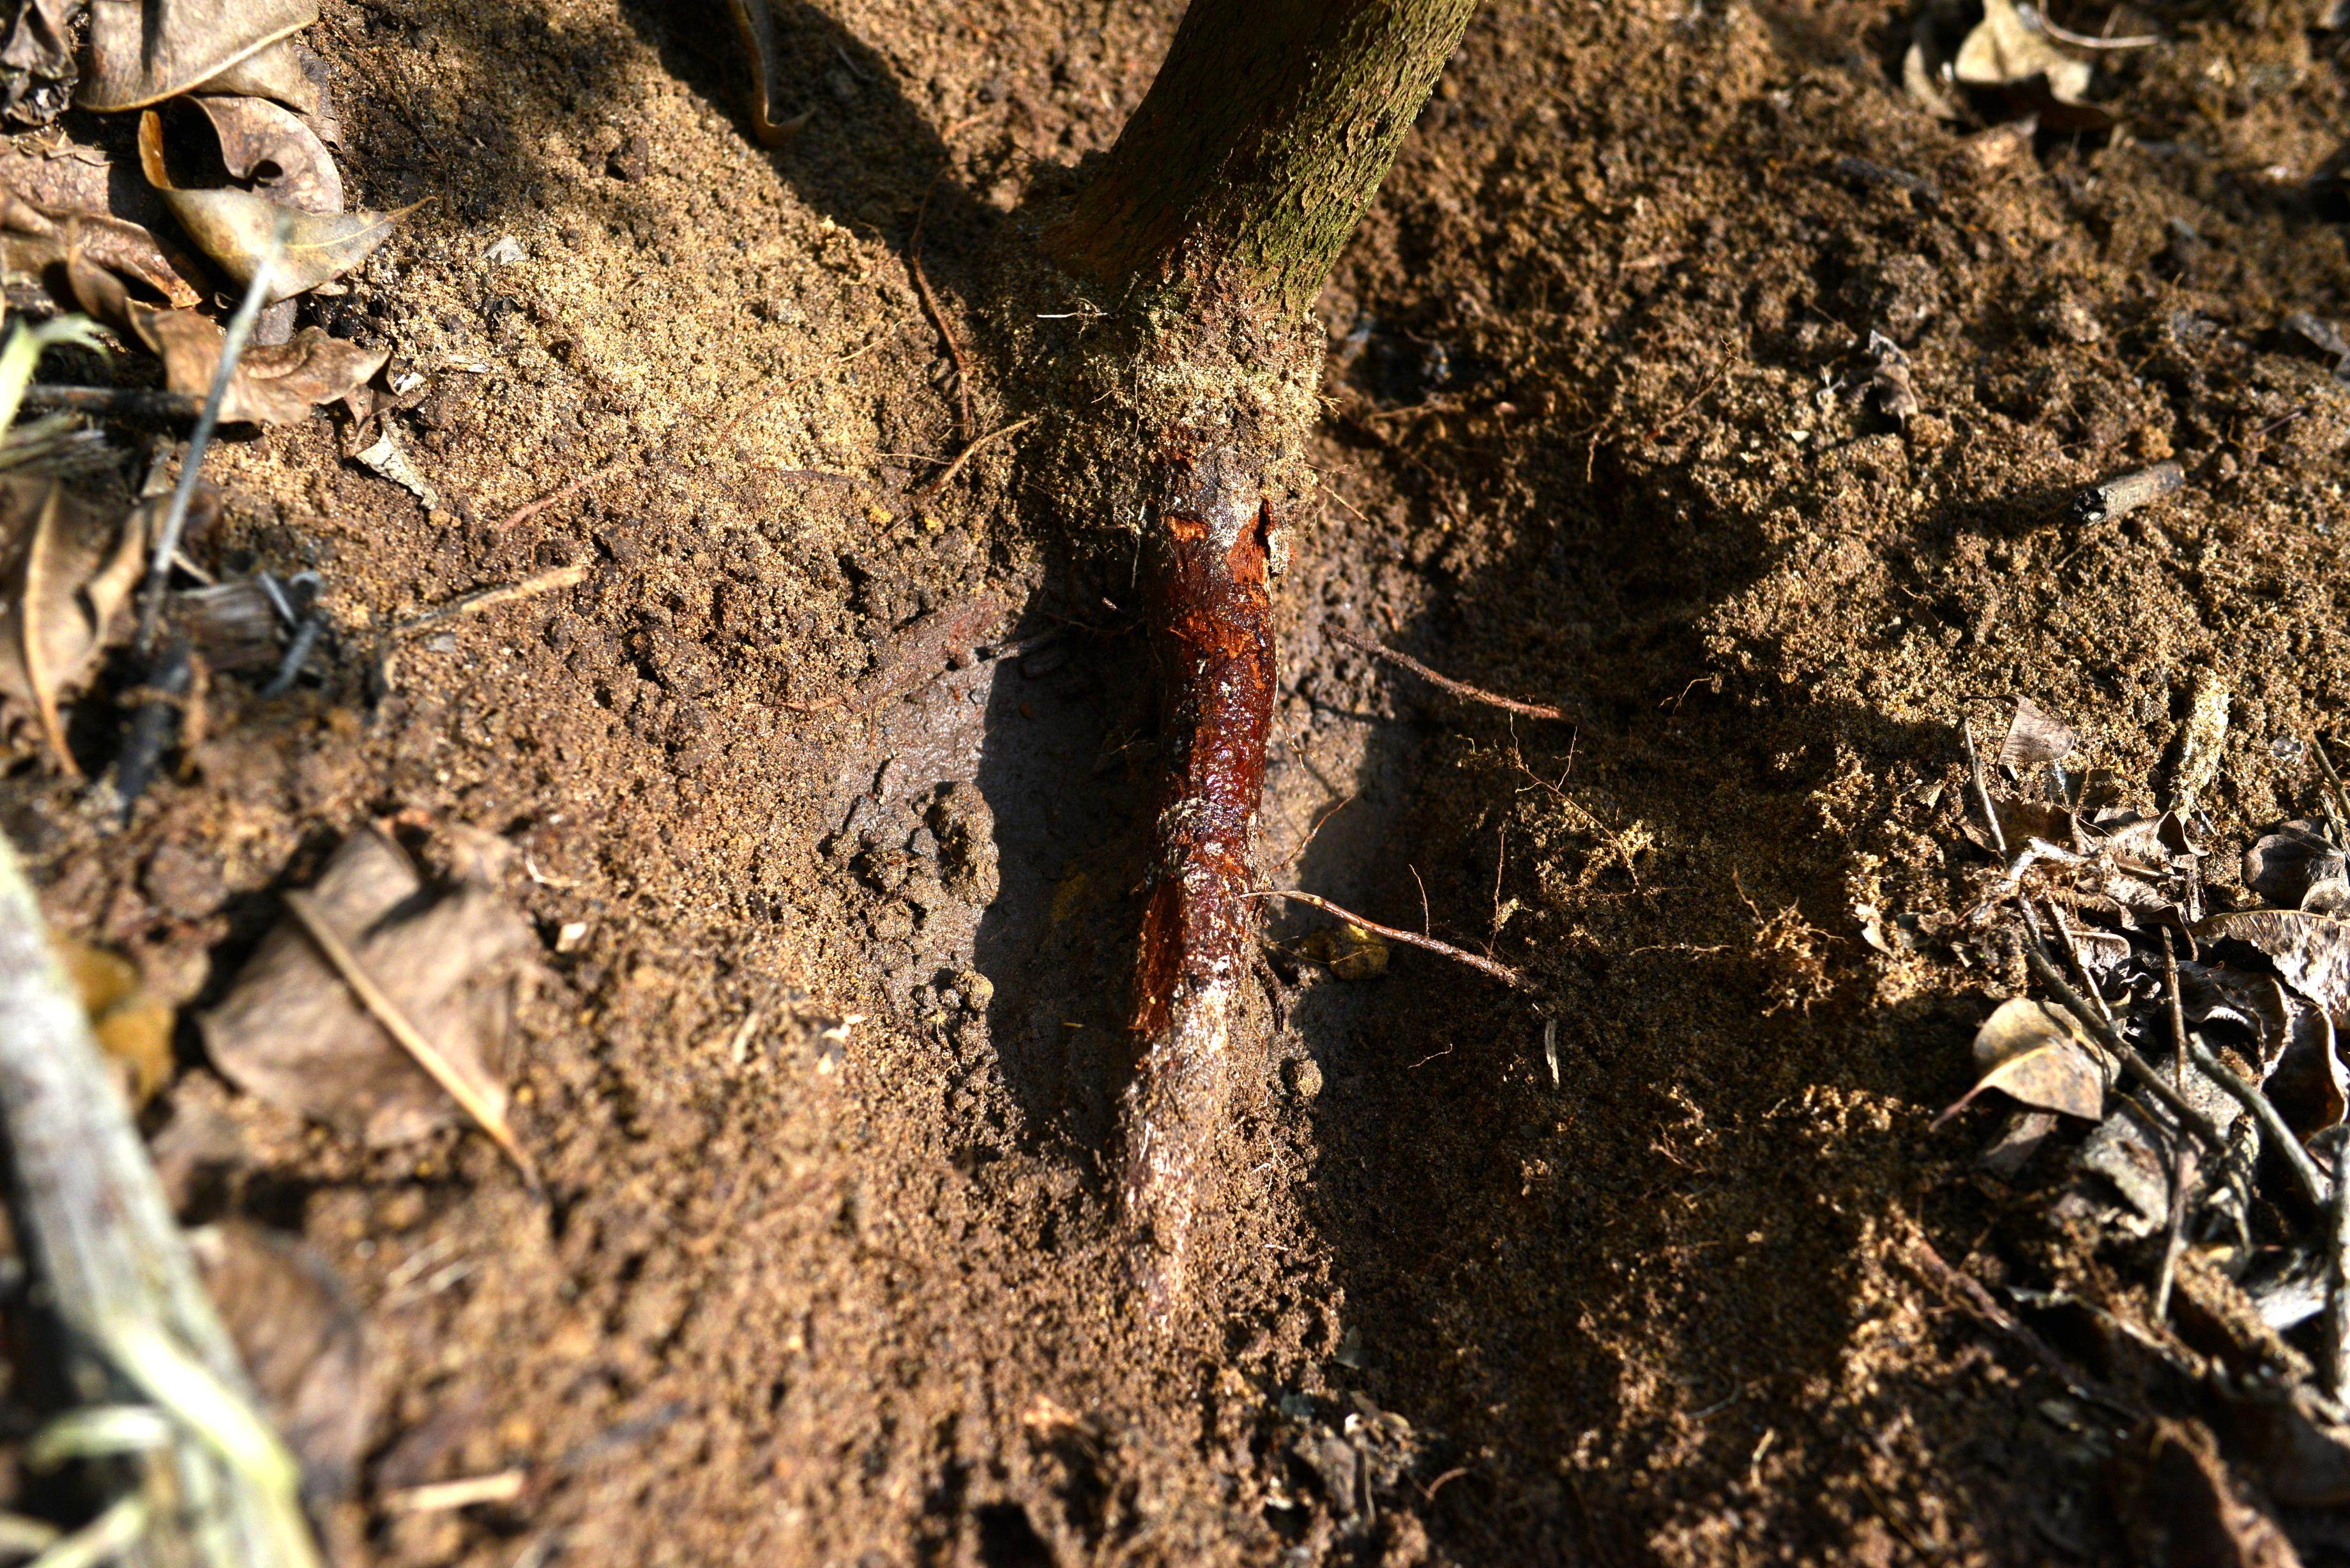Ganoderma - Mycelium: (1118, 1130, 1228, 1375), (1185, 992, 1239, 1057)
Red Root Rot - Secretion: (1125, 483, 1263, 987)
